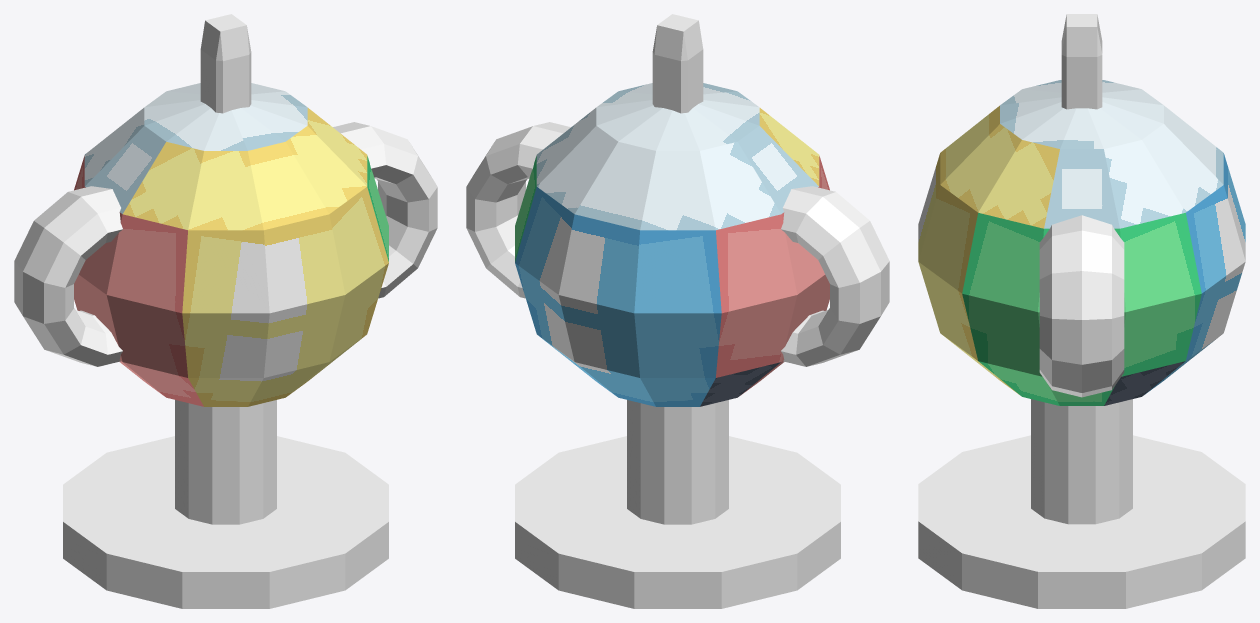
File: mega.gltf
The picture shows the model from 3 angles, left to right: view 1: azimuth 30°, elevation 25°; view 2: azimuth 150°, elevation 25°; view 3: azimuth 270°, elevation 25°; orthographic projection.
Parts seen in each view (by area): view 1: sphere, cylinder (×2), torus (×2), beveled_cuboid; view 2: sphere, cylinder (×2), torus (×2), beveled_cuboid; view 3: sphere, cylinder (×2), torus, beveled_cuboid.
Part boxes in pixels (box(x1,y1,x2,y2)): sphere: box(74, 83, 388, 406); cylinder (×2): box(63, 400, 388, 608); torus (×2): box(14, 122, 437, 366); beveled_cuboid: box(200, 14, 251, 113); sphere: box(515, 83, 829, 406); cylinder (×2): box(515, 400, 840, 608); torus (×2): box(466, 122, 889, 366); beveled_cuboid: box(652, 14, 703, 113); sphere: box(918, 80, 1245, 405); cylinder (×2): box(918, 399, 1245, 608); torus: box(1039, 215, 1124, 397); beveled_cuboid: box(1061, 14, 1102, 109).
Size of the model in its own units: 1.44 by 1.75 by 1.
Materials: 5 (1 with a texture image).
